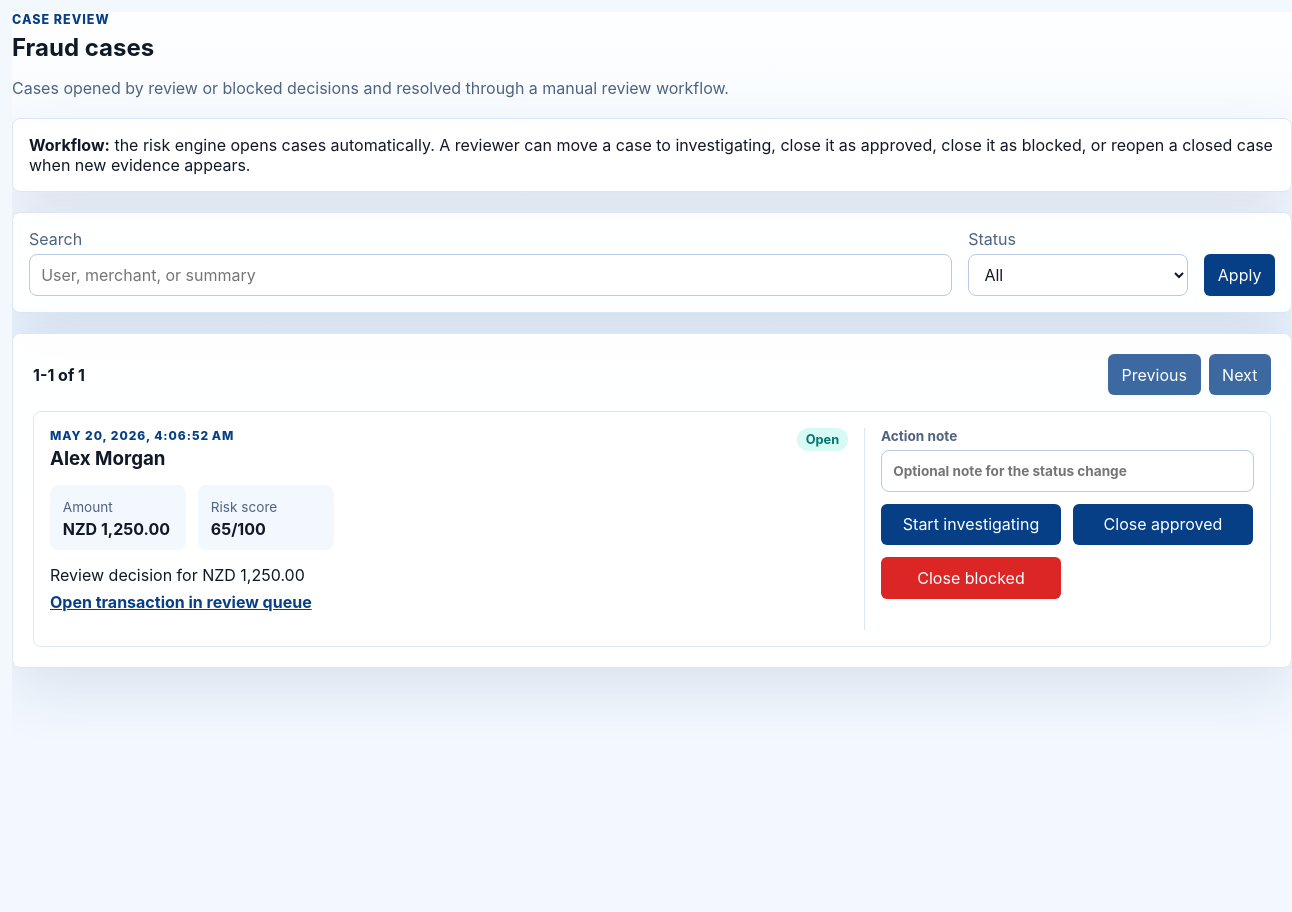
Scenario: FraudCasesComponent › updates a case status from the card action rail
What coordinates should you click on to do the following:
click the button "Start investigating"
I would click on:
 (971, 524)
Its box is [881,504,1061,545].
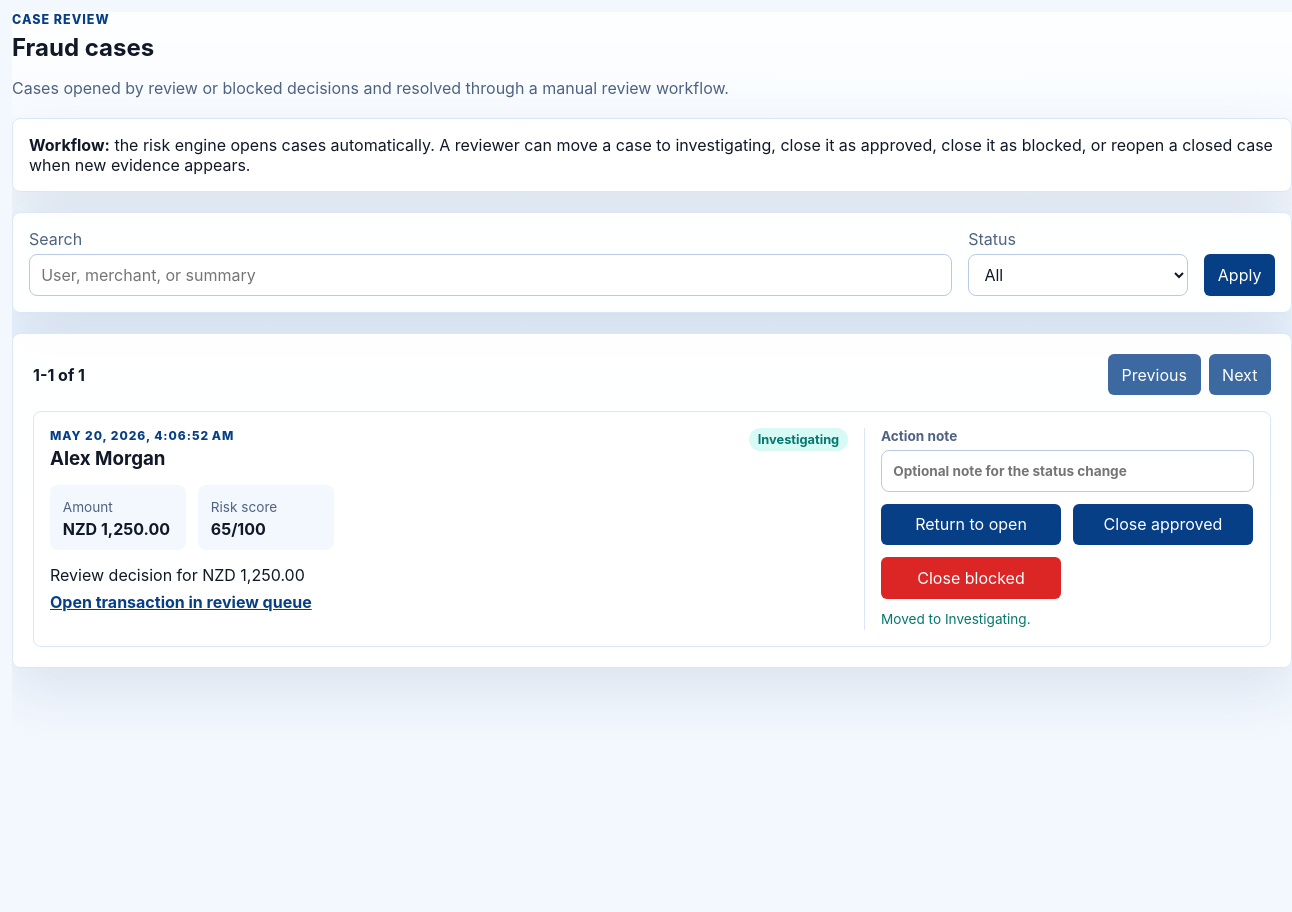
Check: the text "Moved to Investigating." is shown, box [881,611,1031,627]
